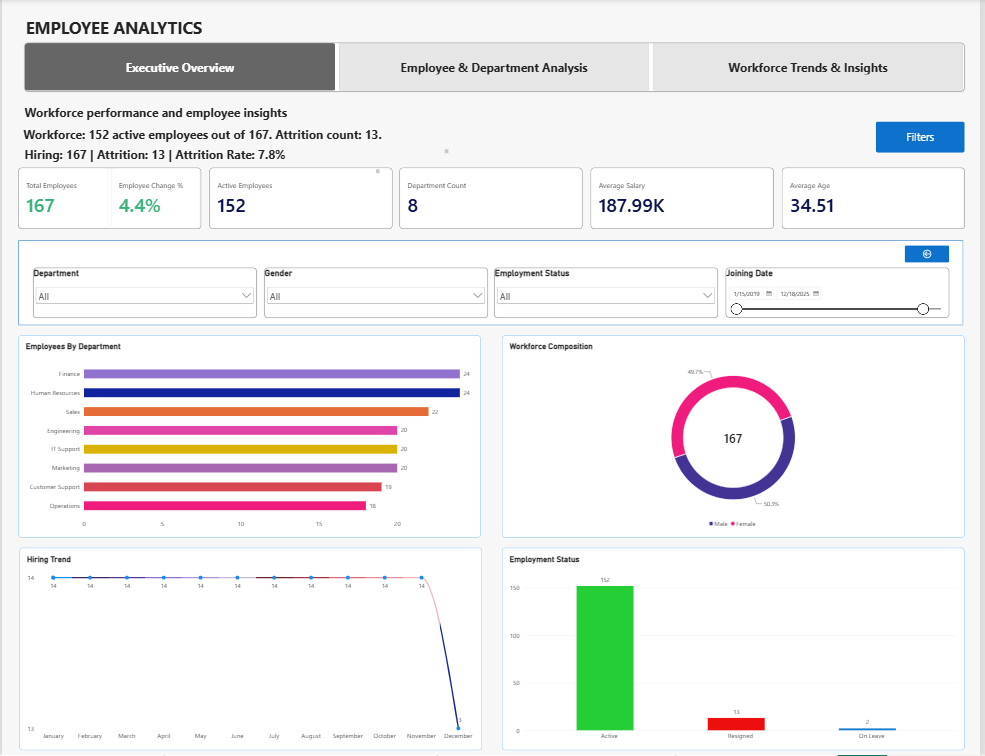

This screenshot's page, from the dashboard's own definition file:
{"tool":"powerbi","page":{"name":"Executive Overview","canvas":[2200,1700],"ordinal":0},"visuals":[{"type":"textbox","box":[53.4,39.4,500,60],"z":0},{"type":"textbox","box":[50.6,236.1,629.6,60],"z":0,"group":"g4"},{"type":"cardVisual","fields":{"Data":["Employees_Cleaned.Total Employees","Employees_Cleaned.Employee Change %"]},"box":[36.1,379.5,411,137.7],"z":0,"group":"g5"},{"type":"shape","box":[37.5,542.5,2125,191.1],"z":0,"group":"g3"},{"type":"slicer","title":"Department","fields":{"Values":["Employees_Cleaned.Department"]},"box":[70.8,605.7,502.1,112.6],"z":0,"group":"g1"},{"type":"group","id":"g1","title":"Group 2","box":[70.8,605.7,2058.4,112.6],"z":0,"group":"g2"},{"type":"clusteredBarChart","title":"Employees By Department","fields":{"Category":["Employees_Cleaned.Department"],"Y":["Employees_Cleaned.Total Employees"]},"box":[36.5,756.1,1040.2,455.3],"z":0,"group":"g6"},{"type":"pageNavigator","box":[50.6,98.4,2113.8,109.6],"z":1000},{"type":"cardVisual","fields":{"Data":["Employees_Cleaned.Active Employees"]},"box":[465.3,379.5,411,137.7],"z":1000,"group":"g5"},{"type":"group","id":"g2","title":"Group 3","box":[70.8,605.7,2058.4,112.6],"z":1000,"group":"g3"},{"type":"slicer","title":"Joining Date","fields":{"Values":["Employees_Cleaned.JoiningDate"]},"box":[1627.1,605.7,502.1,111.8],"z":1000,"group":"g1"},{"type":"donutChart","title":"Workforce Composition","fields":{"Category":["Employees_Cleaned.Gender"],"Y":["Employees_Cleaned.Total Employees"]},"box":[1124.1,756.1,1040.2,455.3],"z":1000,"group":"g6"},{"type":"cardVisual","fields":{"Data":["Employees_Cleaned.Department Count"]},"box":[894.5,379.5,411,137.7],"z":2000,"group":"g5"},{"type":"group","id":"g3","title":"Group 4","box":[37.5,542.5,2125,191.1],"z":2000},{"type":"slicer","title":"Employment Status","fields":{"Values":["Employees_Cleaned.EmploymentStatus"]},"box":[1108.3,605.7,502.1,112.6],"z":2000,"group":"g1"},{"type":"lineChart","title":"Hiring Trend","fields":{"Category":["DateTable.Month Name"],"Y":["Employees_Cleaned.New Hires"]},"box":[40.2,1234,1040.2,455.3],"z":2000,"group":"g6"},{"type":"group","id":"g4","title":"Group 5","box":[50.6,236.1,629.6,60],"z":3000},{"type":"cardVisual","fields":{"Data":["Employees_Cleaned.Average Salary"]},"box":[1323.7,379.5,411,137.7],"z":3000,"group":"g5"},{"type":"slicer","title":"Gender","fields":{"Values":["Employees_Cleaned.Gender"]},"box":[589.6,605.7,502.1,112.6],"z":3000,"group":"g1"},{"type":"clusteredColumnChart","title":"Employment Status","fields":{"Category":["Employees_Cleaned.EmploymentStatus"],"Y":["Employees_Cleaned.Total Employees"]},"box":[1124.1,1234,1040.2,455.3],"z":3000,"group":"g6"},{"type":"group","id":"g5","title":"Group 1","box":[36.1,379.5,2127.8,137.7],"z":4000},{"type":"cardVisual","fields":{"Data":["Employees_Cleaned.Average Age"]},"box":[1753,379.5,411,137.7],"z":4000,"group":"g5"},{"type":"actionButton","box":[2029.4,553.7,101.2,39.4],"z":5000},{"type":"actionButton","box":[1964.8,275.5,200,70],"z":6000},{"type":"group","id":"g6","title":"Group 6","box":[36.5,756.1,2127.8,933.2],"z":7000},{"type":"textbox","box":[47.8,286.7,955.7,60],"z":8000},{"type":"textbox","box":[50.6,331.7,798.3,60],"z":9000}]}

Visuals, with their boxes in screenshot pixels (x1, y1, x2, y2), scaled from the page's 2200x1700 canvas onto the 985x756 screenshot:
textbox: 24,18,248,44
textbox: 23,105,305,132
cardVisual - Employees_Cleaned.Total Employees x Employees_Cleaned.Employee Change %: 16,169,200,230
shape: 17,241,968,326
"Department" slicer: 32,269,257,319
"Group 2" group: 32,269,953,319
"Employees By Department" clusteredBarChart: 16,336,482,539
pageNavigator: 23,44,969,92
cardVisual - Employees_Cleaned.Active Employees: 208,169,392,230
"Group 3" group: 32,269,953,319
"Joining Date" slicer: 728,269,953,319
"Workforce Composition" donutChart: 503,336,969,539
cardVisual - Employees_Cleaned.Department Count: 400,169,585,230
"Group 4" group: 17,241,968,326
"Employment Status" slicer: 496,269,721,319
"Hiring Trend" lineChart: 18,549,484,751
"Group 5" group: 23,105,305,132
cardVisual - Employees_Cleaned.Average Salary: 593,169,777,230
"Gender" slicer: 264,269,489,319
"Employment Status" clusteredColumnChart: 503,549,969,751
"Group 1" group: 16,169,969,230
cardVisual - Employees_Cleaned.Average Age: 785,169,969,230
actionButton: 909,246,954,264
actionButton: 880,123,969,154
"Group 6" group: 16,336,969,751
textbox: 21,127,449,154
textbox: 23,148,380,174
